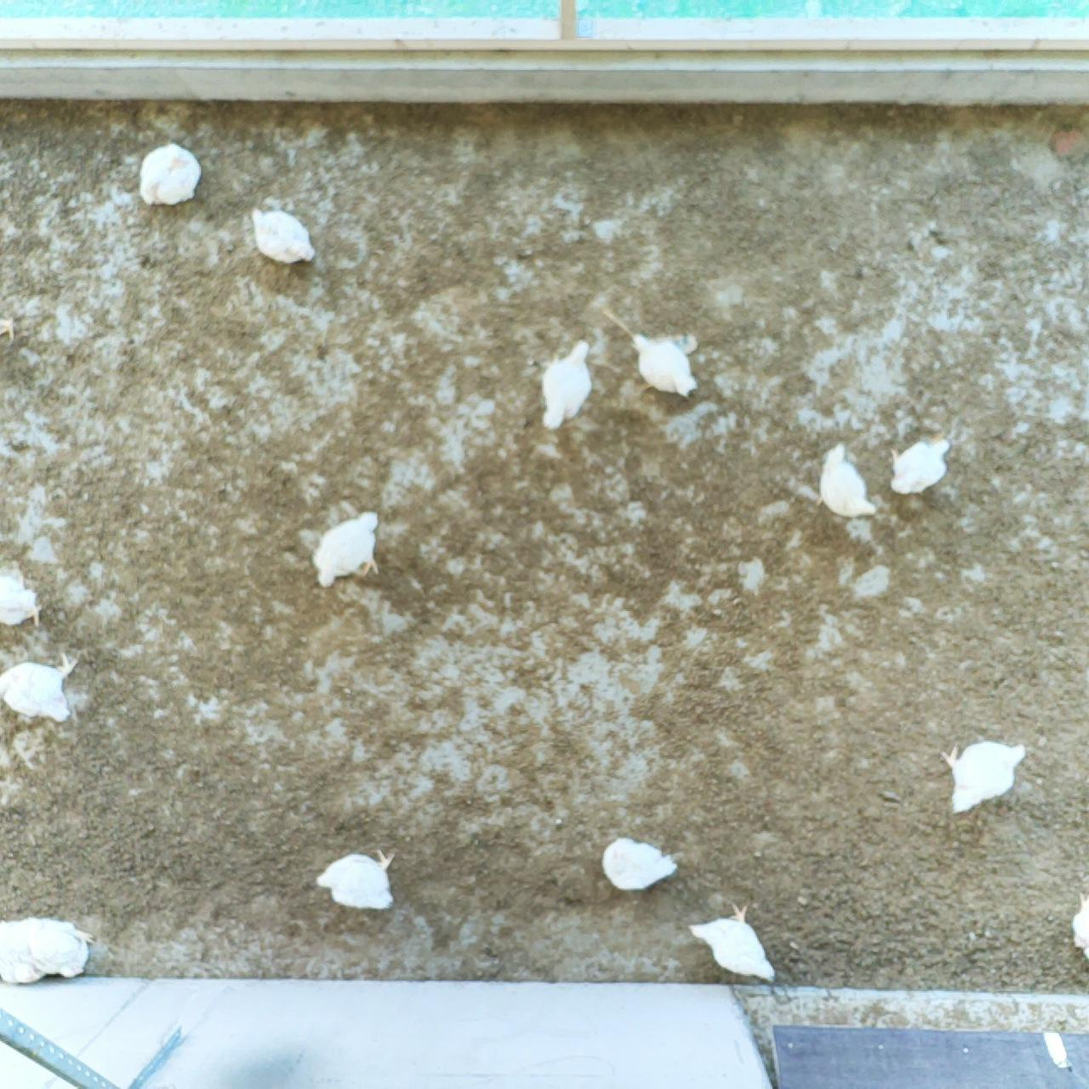chicken: (683, 897, 778, 986), (945, 734, 1030, 819), (0, 651, 81, 725), (313, 505, 384, 588), (536, 334, 594, 435), (317, 848, 401, 915), (813, 439, 880, 521), (15, 915, 97, 980), (600, 831, 682, 895), (628, 332, 696, 401), (134, 140, 201, 210), (884, 435, 954, 500), (245, 203, 316, 265), (0, 917, 47, 982), (0, 567, 39, 631), (1068, 889, 1089, 959)
